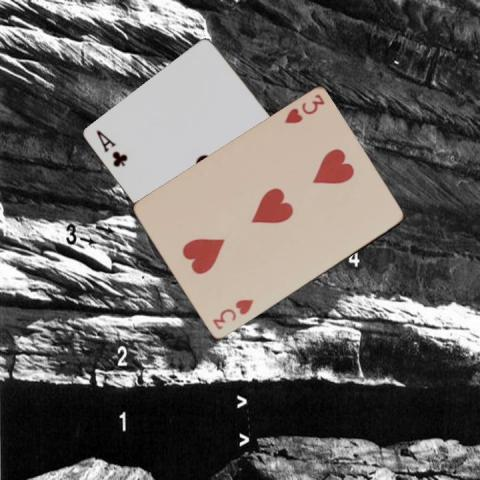3h: (281, 91, 326, 126), (209, 297, 255, 331)
Ac: (93, 126, 130, 168)
